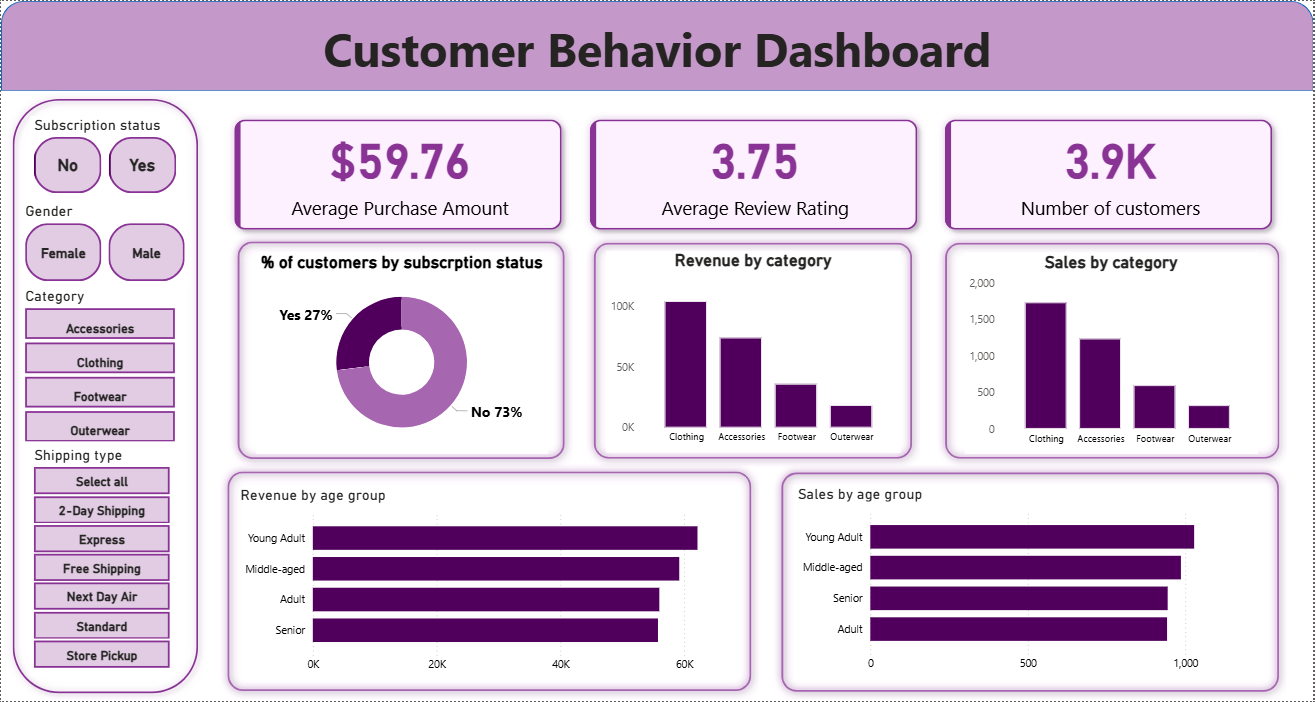

The dashboard page shown, as its layout file describes it:
{"tool":"powerbi","page":{"name":"Page 1","canvas":[1500,800],"ordinal":0},"visuals":[{"type":"cardVisual","fields":{"Data":["customer_behaviour customer.Average Purchase Amount","customer_behaviour customer.Average Review Rating","customer_behaviour customer.Number of customers"]},"box":[250,118.3,1220,160],"z":0},{"type":"shape","box":[0,0,1500,102.7],"z":1000},{"type":"textbox","box":[0,12.7,1500,90.1],"z":2000},{"type":"shape","box":[261.7,265,391.7,266.7],"z":3000},{"type":"donutChart","title":"% of customers by subscrption status","fields":{"Category":["customer_behaviour customer.subscription_status"],"Y":["CountNonNull(customer_behaviour customer.customer_id)"]},"box":[291.7,286.7,333.3,230],"z":4000},{"type":"shape","box":[668.3,266.7,381.7,265],"z":5000},{"type":"shape","box":[1070,266.7,400,265],"z":6000},{"type":"clusteredColumnChart","title":"Revenue by category","fields":{"Y":["Sum(customer_behaviour customer.purchase_amount)"],"Category":["customer_behaviour customer.category"]},"box":[691.7,285,336.7,230],"z":7000},{"type":"clusteredColumnChart","title":"Sales by category","fields":{"Category":["customer_behaviour customer.category"],"Y":["CountNonNull(customer_behaviour customer.customer_id)"]},"box":[1101.7,286.7,335,230],"z":8000},{"type":"shape","box":[3.6,102.7,230,697.3],"z":9000},{"type":"advancedSlicerVisual","title":"Subscription status","fields":{"Values":["customer_behaviour customer.subscription_status"]},"box":[32.7,132,172,94],"z":10000},{"type":"advancedSlicerVisual","title":"Gender","fields":{"Values":["customer_behaviour customer.gender"]},"box":[23.3,230.7,192,96],"z":11000},{"type":"advancedSlicerVisual","title":"Category","fields":{"Values":["customer_behaviour customer.category"]},"box":[23.3,326.7,181.3,182.7],"z":12000},{"type":"advancedSlicerVisual","title":"Shipping type","fields":{"Values":["customer_behaviour customer.shipping_type"]},"box":[32.2,508.9,165.6,262.2],"z":13000},{"type":"clusteredBarChart","title":"Revenue by age group","fields":{"Y":["Sum(customer_behaviour customer.purchase_amount)"],"Category":["customer_behaviour customer.age_group"]},"box":[268.2,553.6,598.2,222.7],"z":14000},{"type":"shape","box":[250,529.1,616.4,269.1],"z":15000},{"type":"shape","box":[883.3,530,586.7,268.3],"z":16000},{"type":"clusteredBarChart","title":"Sales by age group","fields":{"Category":["customer_behaviour customer.age_group"],"Y":["CountNonNull(customer_behaviour customer.customer_id)"]},"box":[905.7,552.9,540,222.9],"z":17000}]}

Visuals, with their boxes in screenshot pixels (x1, y1, x2, y2), scaled from the page's 1500x800 canvas onto the 1316x702 screenshot:
cardVisual - customer_behaviour customer.Average Purchase Amount x customer_behaviour customer.Average Review Rating: [219,104,1290,244]
shape: [0,0,1315,90]
textbox: [0,11,1315,90]
shape: [230,233,573,467]
"% of customers by subscrption status" donutChart: [256,252,548,453]
shape: [586,234,921,467]
shape: [939,234,1290,467]
"Revenue by category" clusteredColumnChart: [607,250,902,452]
"Sales by category" clusteredColumnChart: [967,252,1260,453]
shape: [3,90,205,701]
"Subscription status" advancedSlicerVisual: [29,116,180,198]
"Gender" advancedSlicerVisual: [20,202,189,287]
"Category" advancedSlicerVisual: [20,287,180,447]
"Shipping type" advancedSlicerVisual: [28,447,174,677]
"Revenue by age group" clusteredBarChart: [235,486,760,681]
shape: [219,464,760,700]
shape: [775,465,1290,701]
"Sales by age group" clusteredBarChart: [795,485,1268,681]
